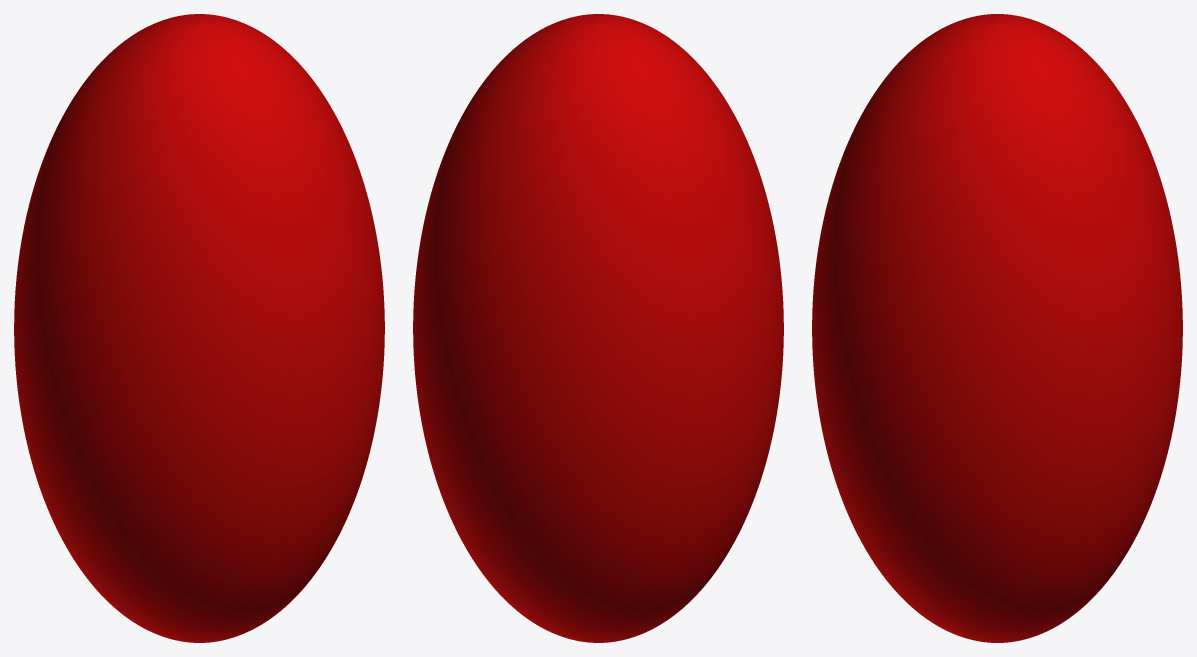
The model's file is boneco_corpo.obj.
The picture shows the model from 3 angles, left to right: view 1: azimuth 30°, elevation 25°; view 2: azimuth 150°, elevation 25°; view 3: azimuth 270°, elevation 25°; orthographic projection.
Visible parts, largest first — view 1: Sphere.003_Material.005; view 2: Sphere.003_Material.005; view 3: Sphere.003_Material.005.
Part boxes in pixels (box(x1,y1,x2,y2)): Sphere.003_Material.005: box(14, 14, 384, 642); Sphere.003_Material.005: box(413, 14, 783, 642); Sphere.003_Material.005: box(812, 14, 1182, 642).
Bounding box in the file's own units: 0.2749 × 0.5 × 0.2749.
